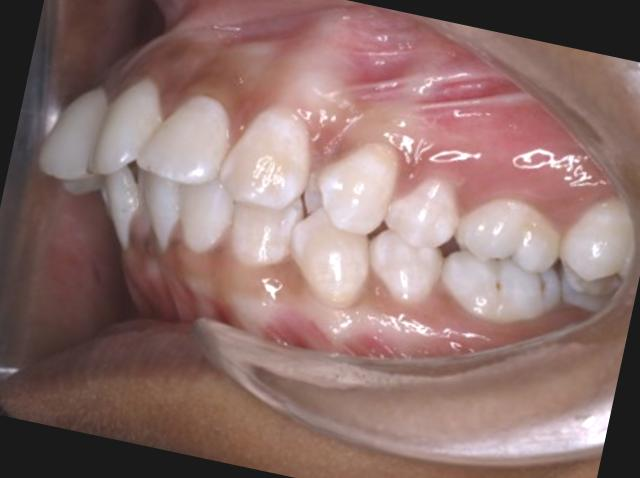canine class II full class: (198, 85, 406, 316)
molar class II 1/2: (429, 178, 583, 338)
